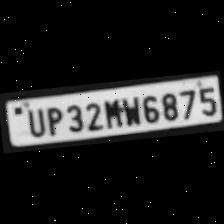2: (81, 98, 103, 132)
3: (62, 100, 84, 134)
5: (194, 84, 219, 118)
6: (138, 91, 160, 125)
7: (176, 86, 197, 120)
8: (158, 89, 179, 123)
M: (100, 94, 122, 130)
P: (42, 104, 64, 137)
U: (22, 104, 46, 138)
W: (120, 93, 140, 127)
